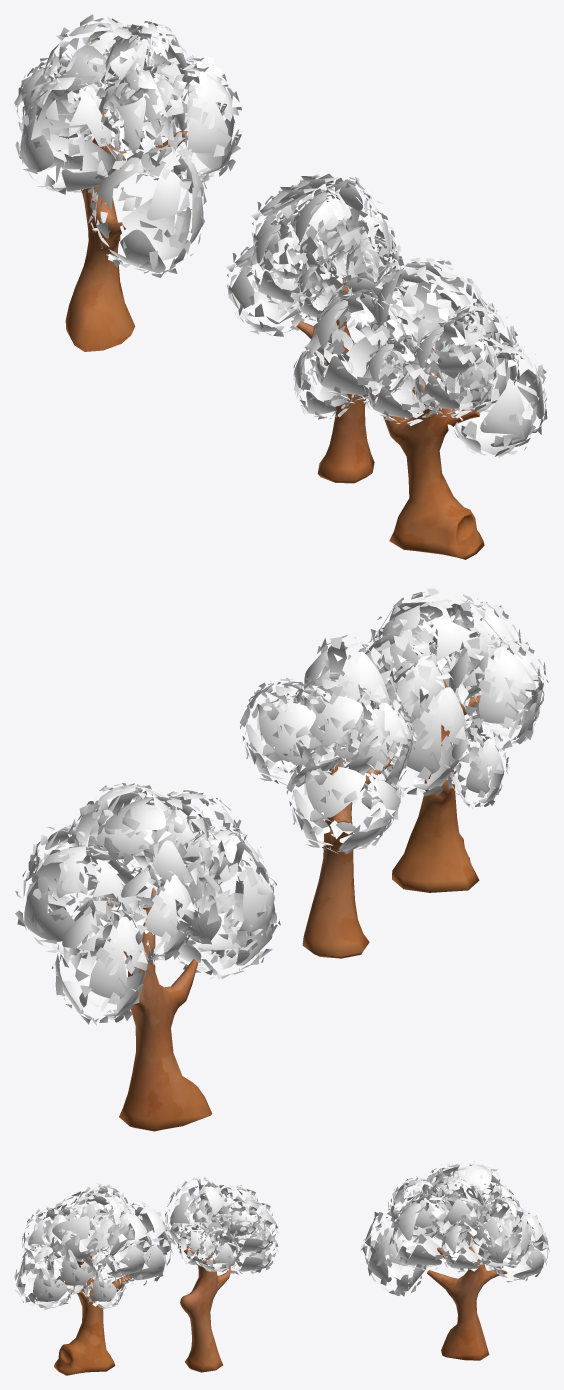
The model's file is Arbres.fbx.
3 views of the same model, one above another, from view 1: azimuth 30°, elevation 25°; view 2: azimuth 150°, elevation 25°; view 3: azimuth 270°, elevation 25° (orthographic). The views are drawn at different scales.
Visible parts, largest first — view 1: Buissons.001, Buissons.013, Buissons.030; view 2: Buissons.001, Buissons.013, Buissons.030; view 3: Buissons.001, Buissons.013, Buissons.030.
Boxes of the visible parts, bbox=[...] form: Buissons.001: bbox=[14, 14, 242, 351]; Buissons.013: bbox=[293, 257, 547, 559]; Buissons.030: bbox=[226, 170, 404, 483]; Buissons.001: bbox=[15, 783, 280, 1131]; Buissons.013: bbox=[349, 588, 549, 892]; Buissons.030: bbox=[240, 635, 416, 958]; Buissons.001: bbox=[360, 1161, 549, 1360]; Buissons.013: bbox=[14, 1183, 172, 1375]; Buissons.030: bbox=[165, 1177, 278, 1372].
Bounding box in the file's own units: 1226 × 1642 × 4102.
